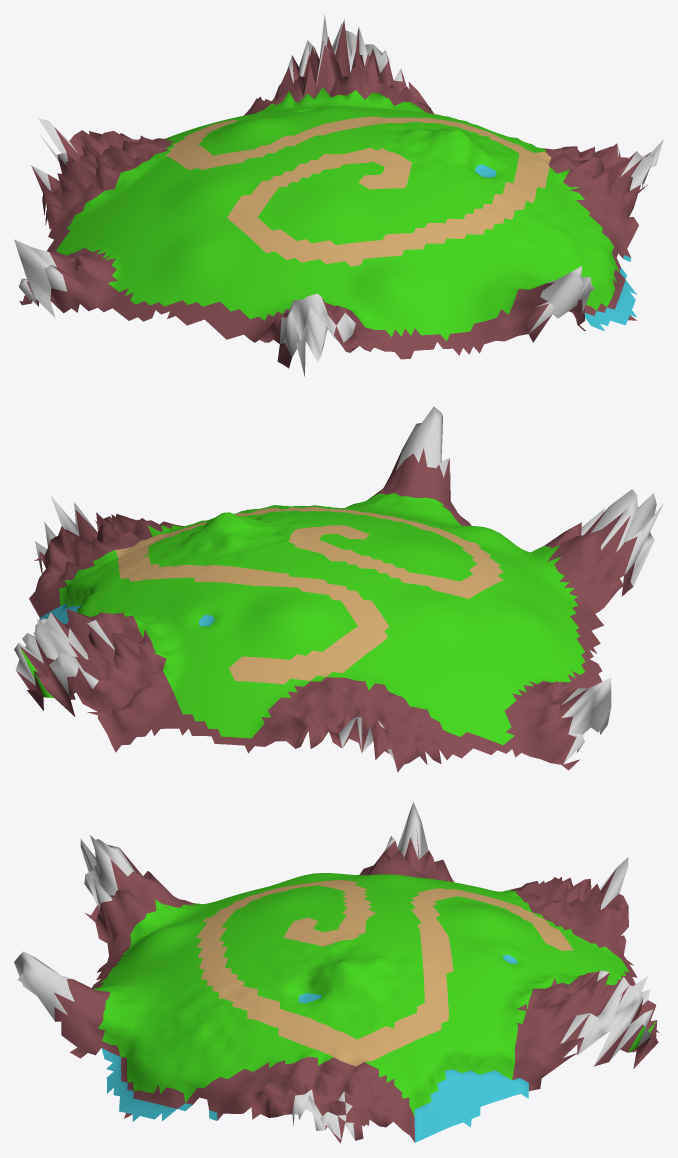
The model's file is luo.fbx.
3 renders of one model, top to bottom at view 1: azimuth 30°, elevation 25°; view 2: azimuth 150°, elevation 25°; view 3: azimuth 270°, elevation 25°, orthographic. The views are drawn at different scales.
Parts seen in each view (by area): view 1: Icosphere; view 2: Icosphere; view 3: Icosphere.
Boxes of the visible parts, box(x1,y1,x2,y2) form: Icosphere: box(14, 14, 663, 376); Icosphere: box(14, 406, 663, 772); Icosphere: box(14, 802, 661, 1143).
Bounding box in the file's own units: 5502 × 1119 × 5267.
